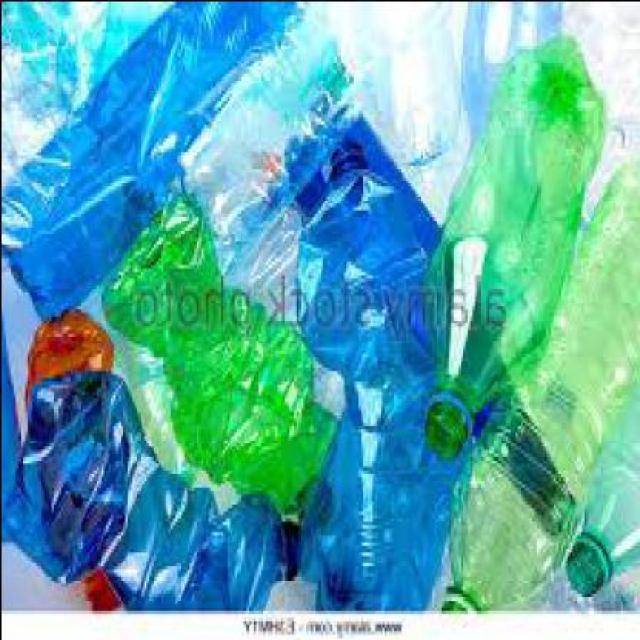PLASTIC: (1, 0, 300, 315), (442, 160, 638, 608), (104, 188, 344, 517), (425, 31, 607, 462), (146, 2, 426, 260), (9, 366, 283, 609), (312, 134, 442, 606), (280, 422, 474, 582), (23, 305, 122, 606), (0, 1, 155, 175), (568, 358, 638, 598), (460, 2, 571, 140), (570, 2, 638, 152)
